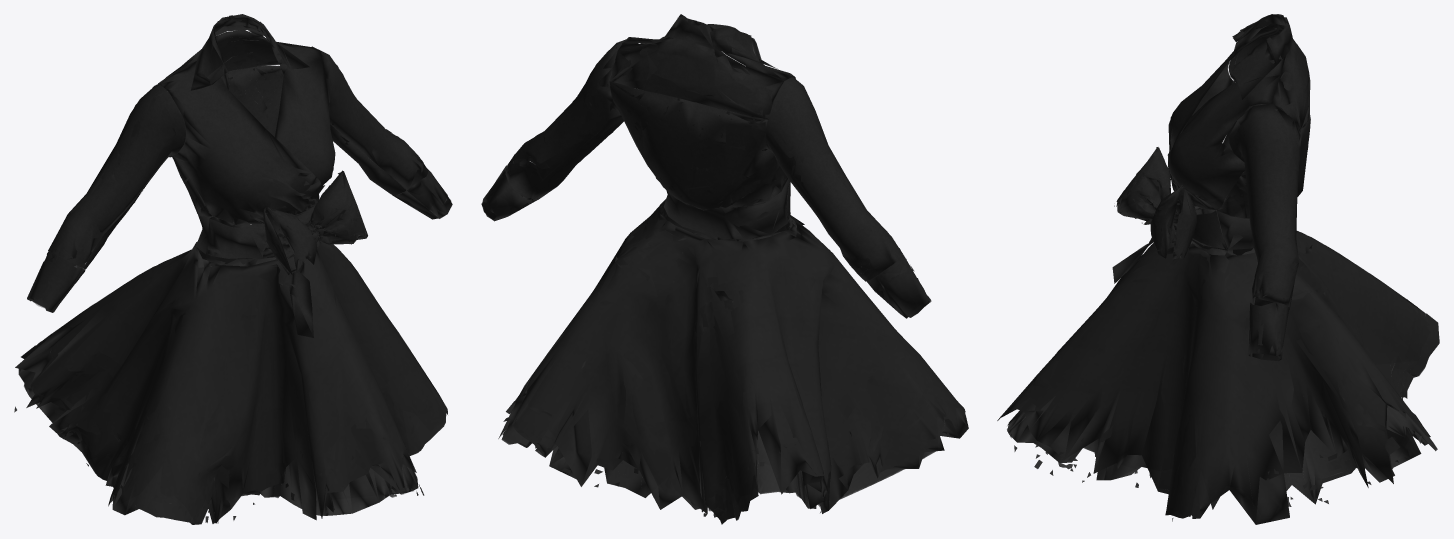
Rendered from black_dress.glb.
The picture shows the model from 3 angles, left to right: view 1: azimuth 30°, elevation 25°; view 2: azimuth 150°, elevation 25°; view 3: azimuth 270°, elevation 25°; orthographic projection. The views are drawn at different scales.
Parts seen in each view (by area): view 1: black_dress; view 2: black_dress; view 3: black_dress.
Boxes of the visible parts, left/top/right/bottom form: black_dress: left=14, top=14, right=452, bottom=524; black_dress: left=481, top=14, right=968, bottom=524; black_dress: left=997, top=14, right=1439, bottom=524.
Size of the model in its own units: 1.04 by 1.06 by 0.9329.
1 material, 1 textured.
